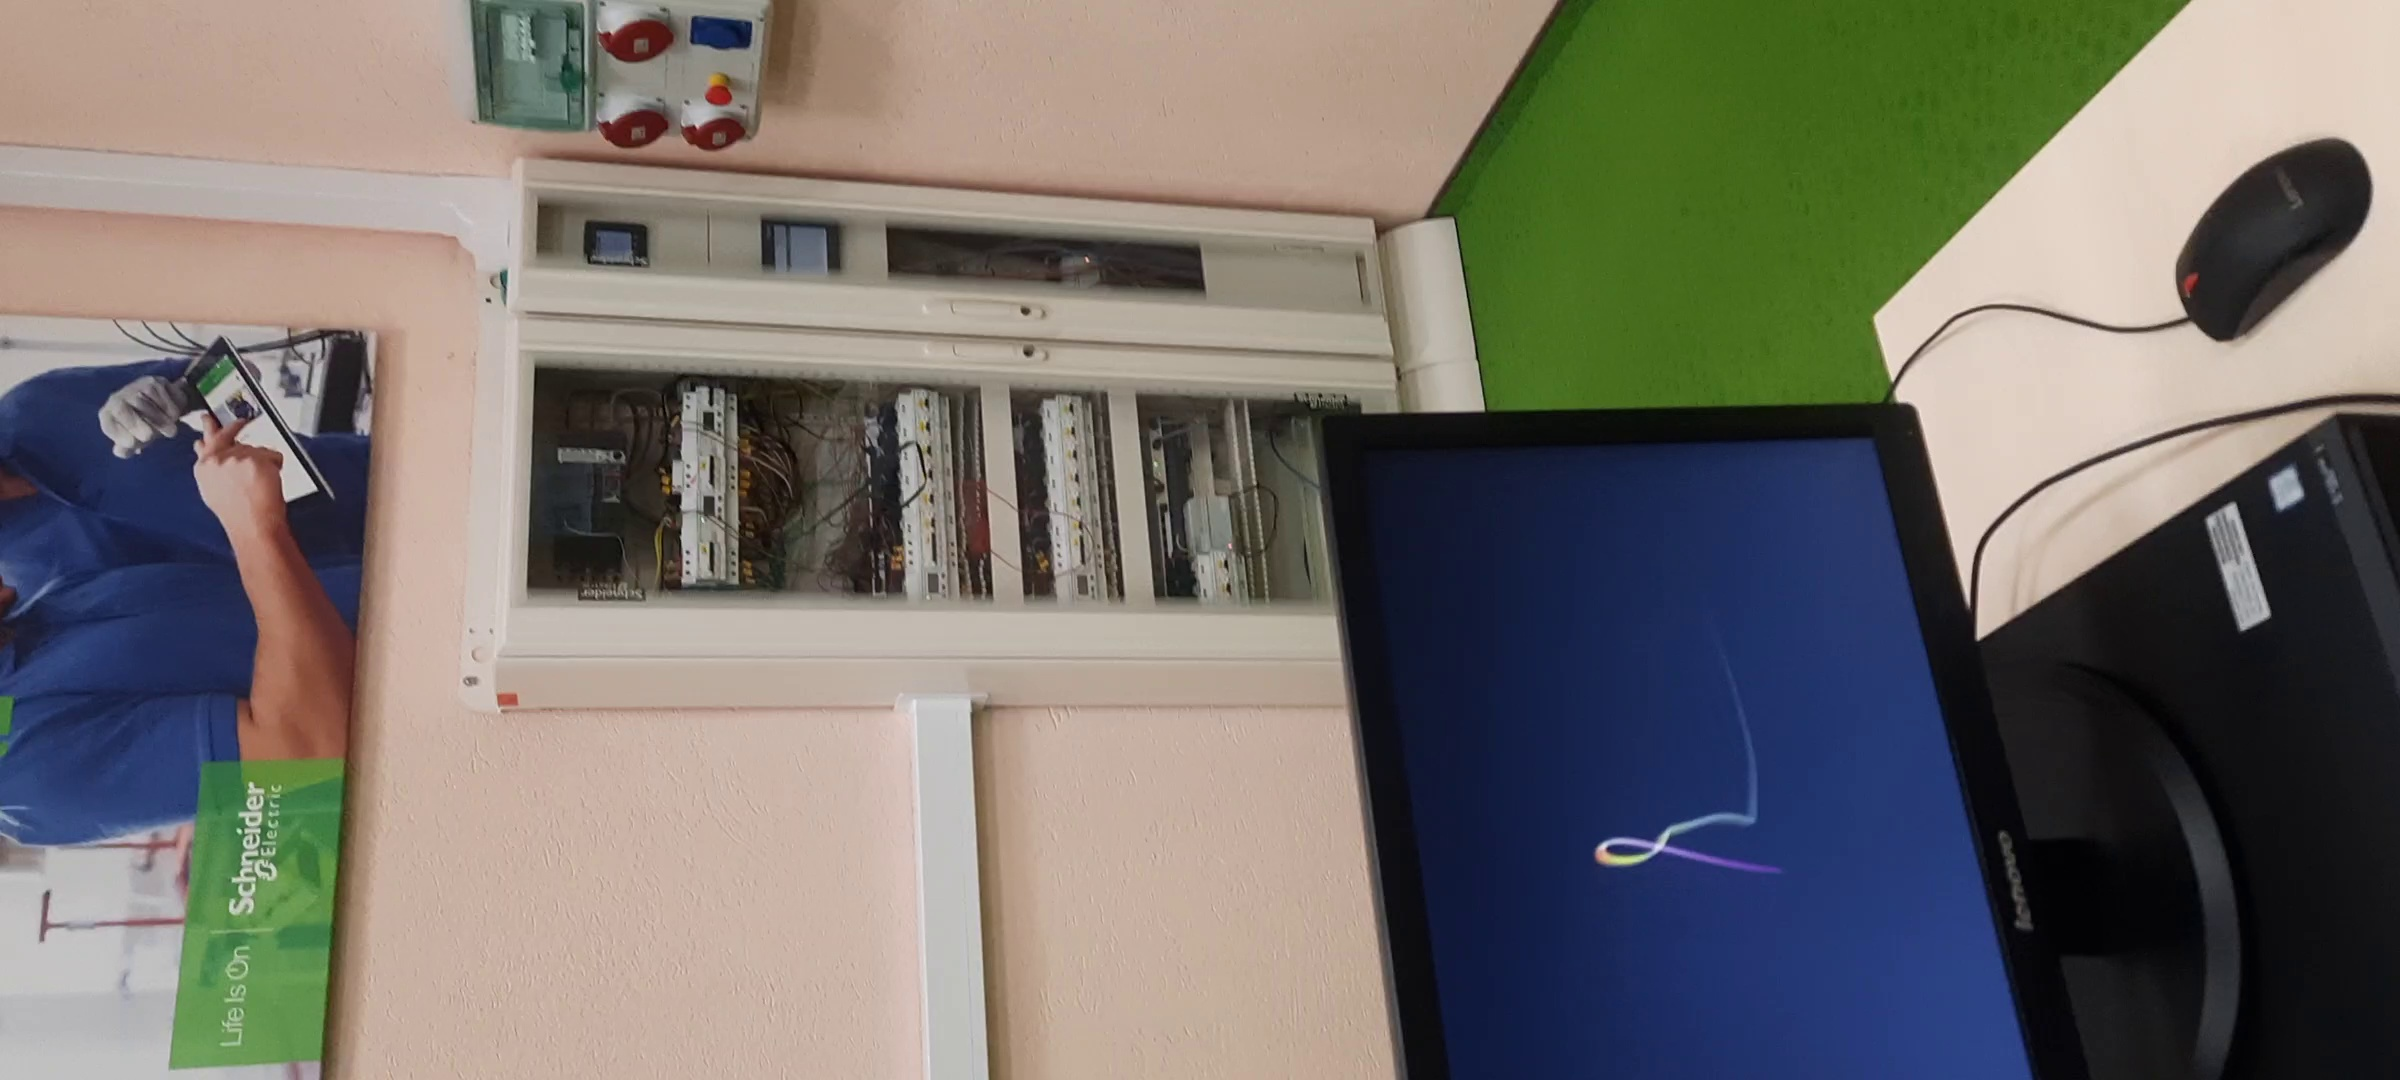stand1: (473, 161, 1495, 711)
